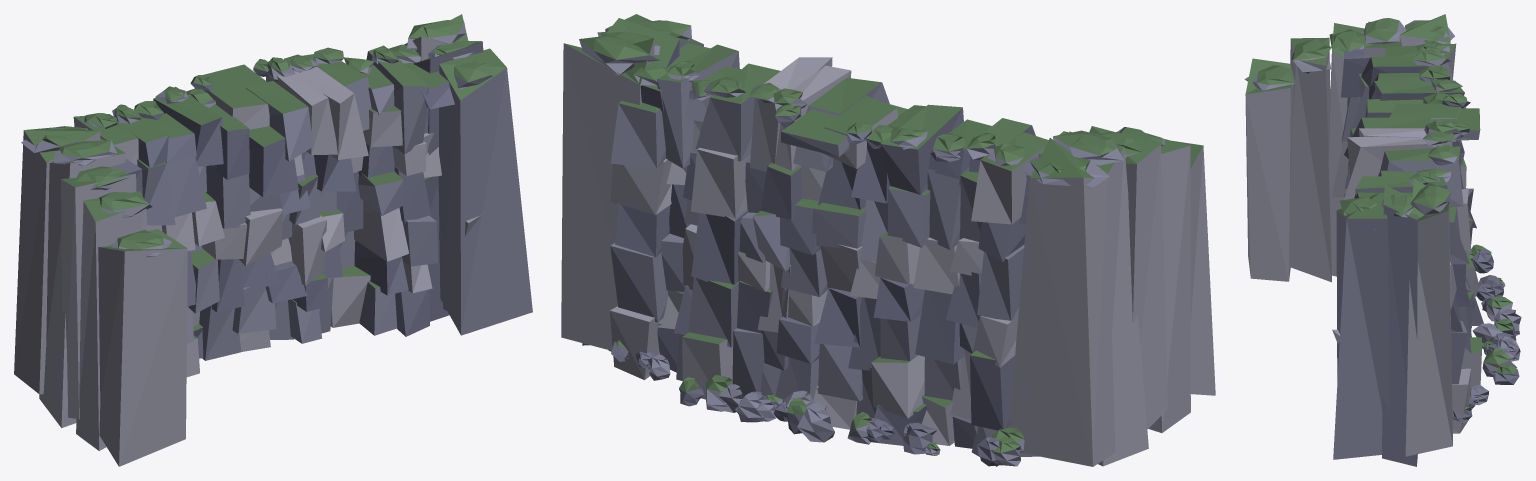
File: lowmere-bluff.glb
3 renders of one model, left to right at view 1: azimuth 30°, elevation 25°; view 2: azimuth 150°, elevation 25°; view 3: azimuth 270°, elevation 25°, orthographic. The views are drawn at different scales.
Parts seen in each view (by area): view 1: lowmere-bluff; view 2: lowmere-bluff; view 3: lowmere-bluff.
Boxes of the visible parts, x1,y1,x2,y2 form: lowmere-bluff: (14, 14, 532, 466); lowmere-bluff: (561, 14, 1215, 466); lowmere-bluff: (1244, 14, 1521, 466).
Size of the model in its own units: 43.82 by 25.04 by 24.03.
